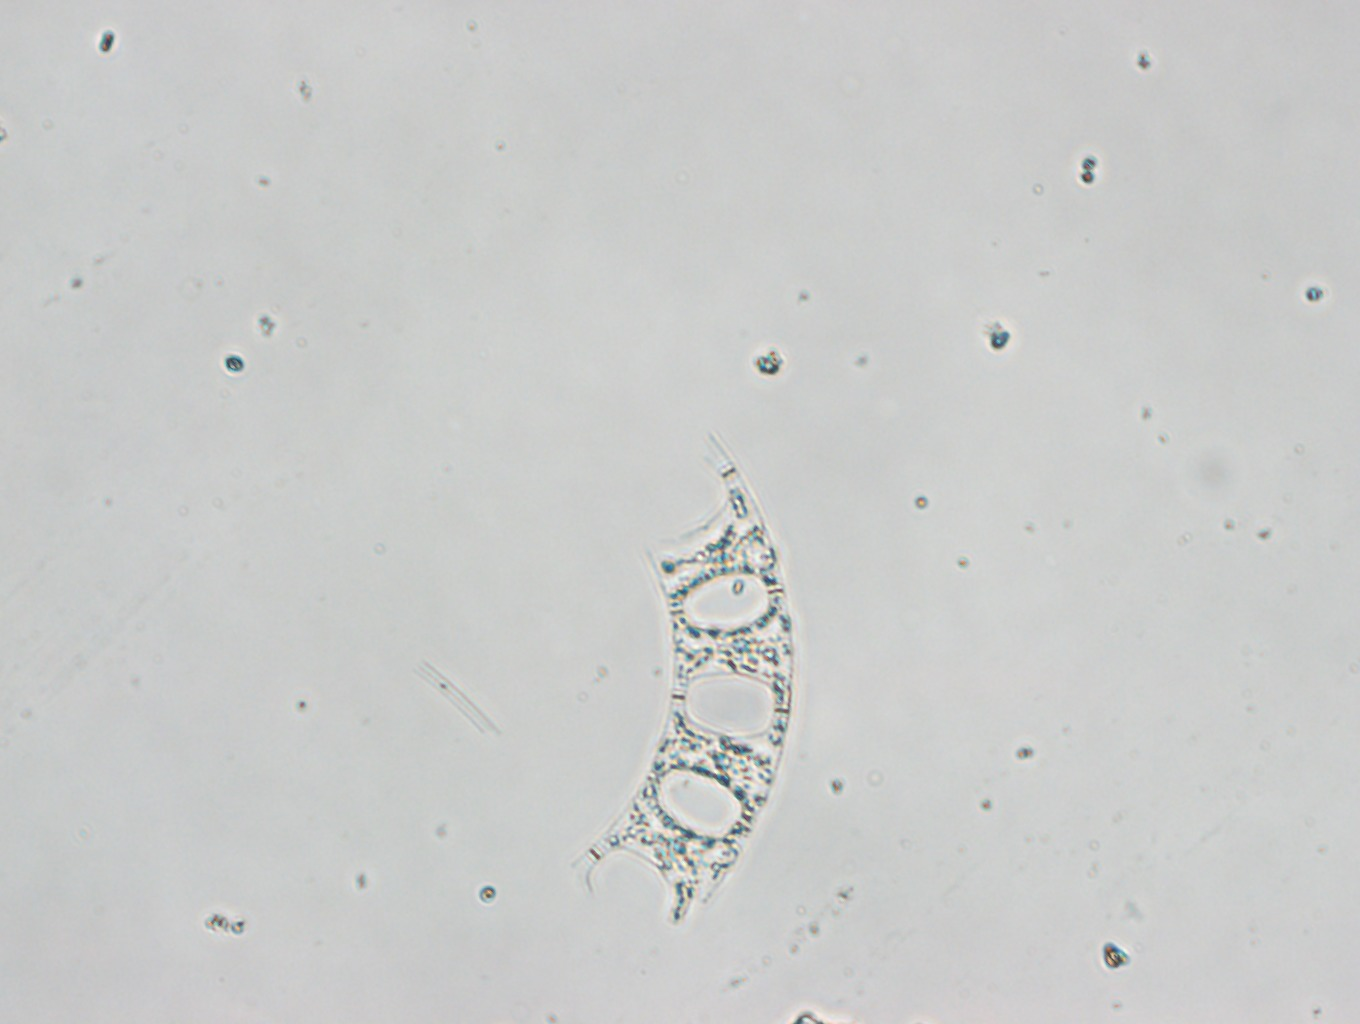eucampia: (566, 429, 794, 918)
